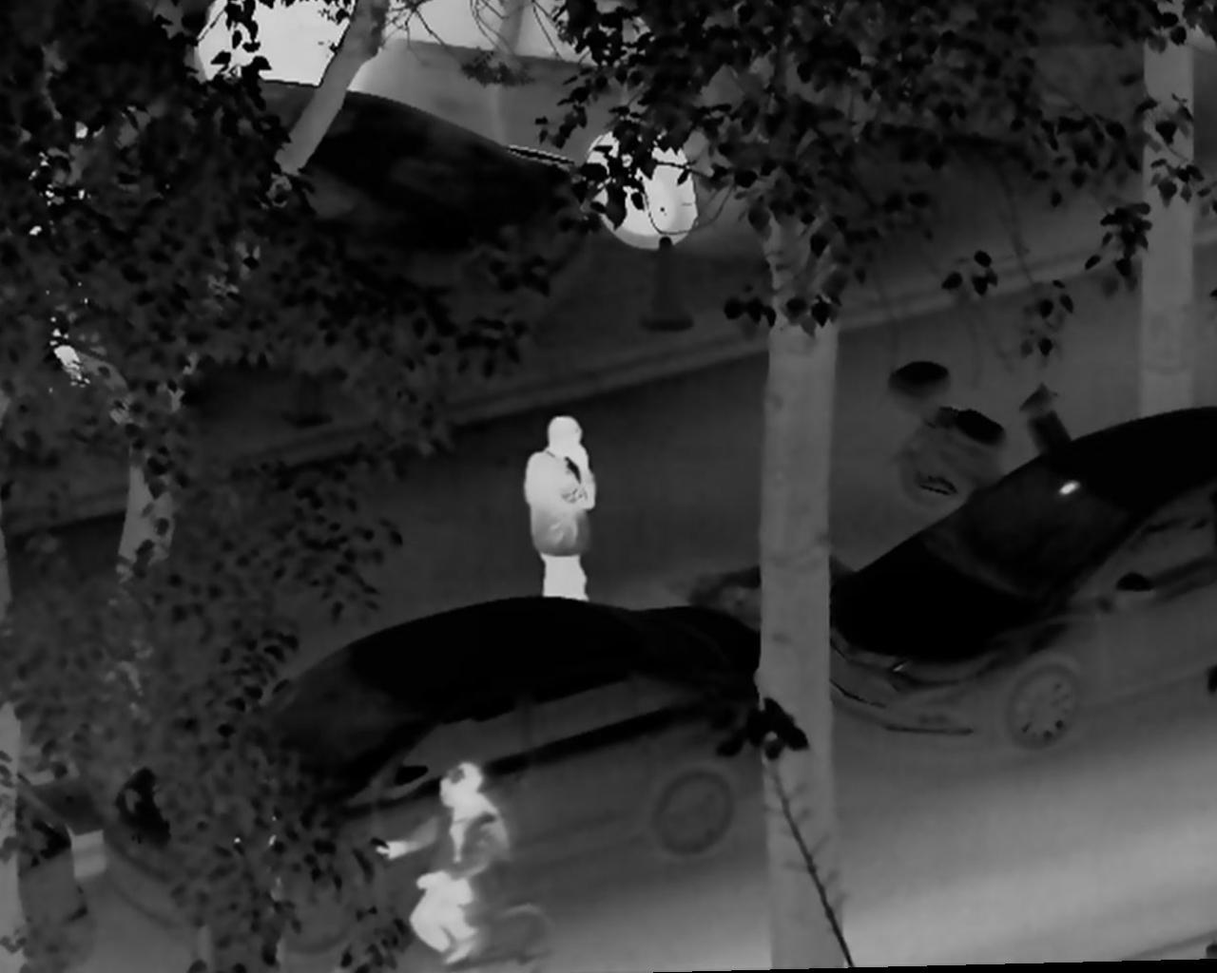person: (370, 761, 523, 970), (520, 410, 604, 603)
